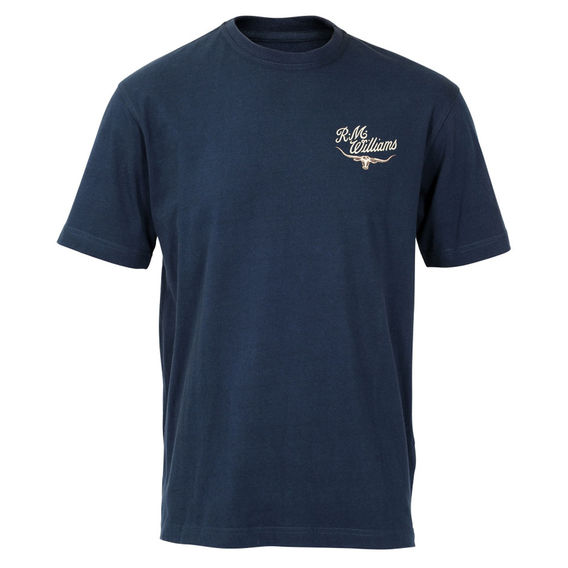T-Shirt: (50, 11, 530, 554)
